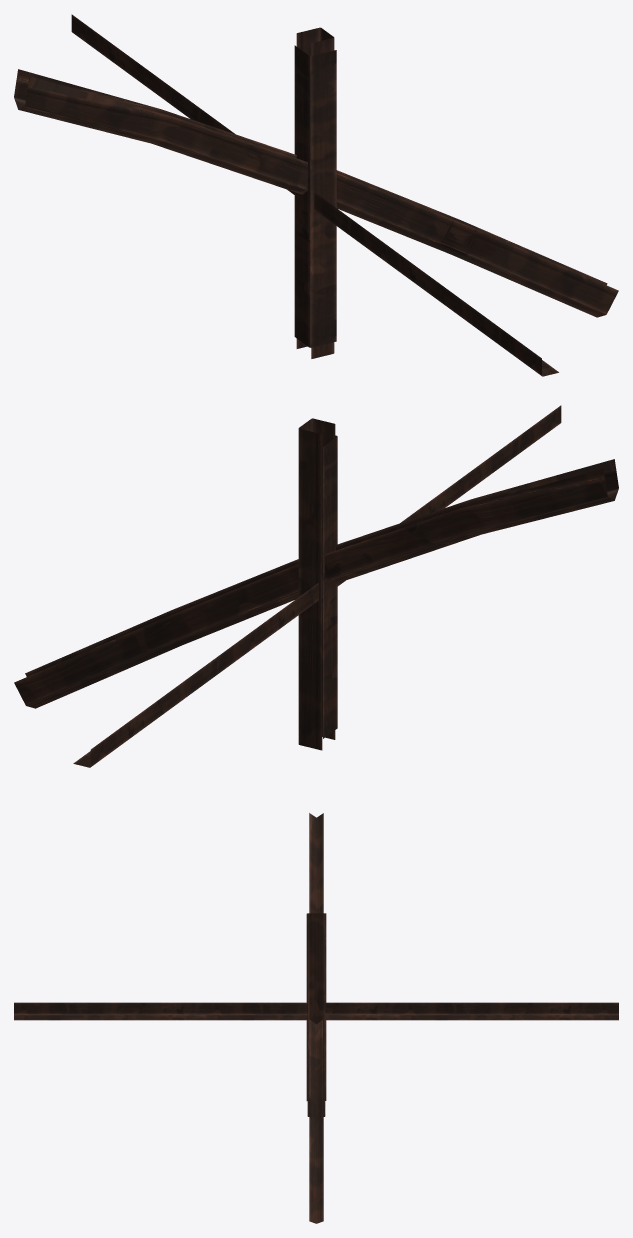
File: board.fbx
3 renders of one model, top to bottom at view 1: azimuth 30°, elevation 25°; view 2: azimuth 150°, elevation 25°; view 3: azimuth 270°, elevation 25°, orthographic. The views are drawn at different scales.
Visible parts, largest first — view 1: board3, board1, board2, board; view 2: board3, board, board2, board1; view 3: board2, board3, board, board1.
Part boxes in pixels (x1=…): board3: x1=14, y1=69, x2=618, y2=317; board1: x1=294, y1=45, x2=336, y2=347; board2: x1=71, y1=14, x2=558, y2=376; board: x1=296, y1=27, x2=334, y2=358; board3: x1=14, y1=459, x2=618, y2=708; board: x1=298, y1=418, x2=335, y2=750; board2: x1=73, y1=405, x2=561, y2=767; board1: x1=323, y1=435, x2=337, y2=738; board2: x1=14, y1=1002, x2=618, y2=1020; board3: x1=309, y1=813, x2=323, y2=1223; board: x1=307, y1=913, x2=325, y2=1116; board1: x1=306, y1=913, x2=326, y2=1100.
Bounding box in the file's own units: 355 × 220 × 486.
